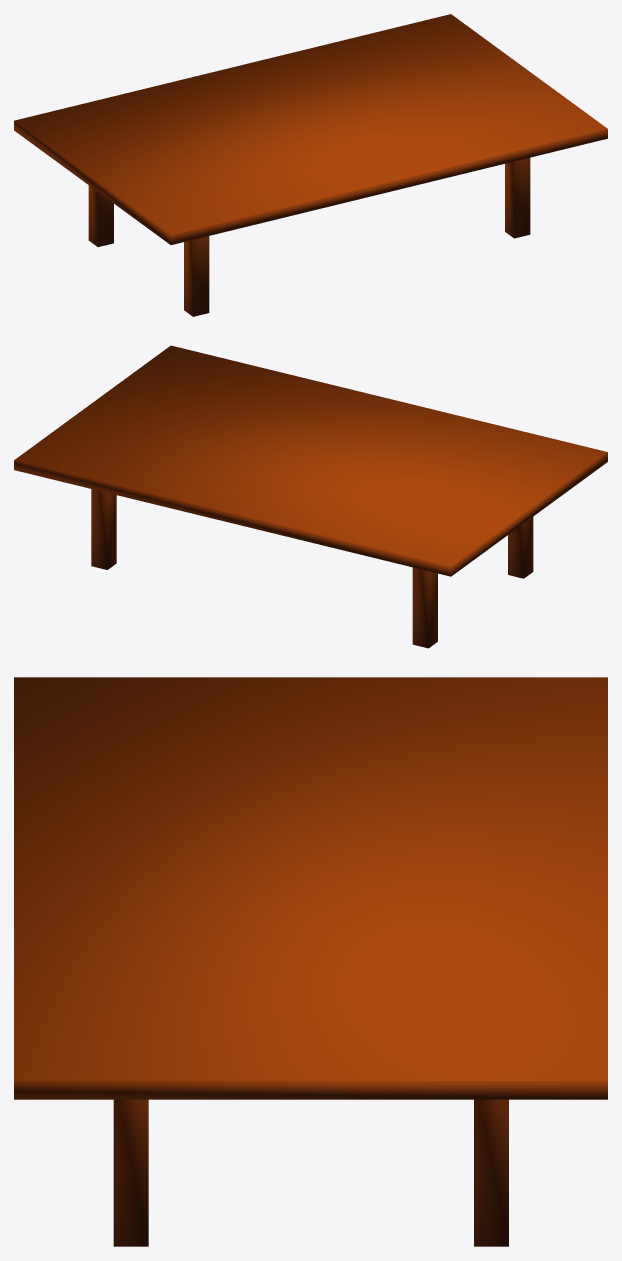
Rendered from MesaSimples.fbx.
3 views of the same model, one above another, from view 1: azimuth 30°, elevation 25°; view 2: azimuth 150°, elevation 25°; view 3: azimuth 270°, elevation 25° (orthographic). The views are drawn at different scales.
Parts seen in each view (by area): view 1: MesaSimples; view 2: MesaSimples; view 3: MesaSimples.
Boxes of the visible parts, left/top/right/bottom form: MesaSimples: left=14, top=14, right=607, bottom=316; MesaSimples: left=14, top=345, right=607, bottom=648; MesaSimples: left=14, top=677, right=607, bottom=1246.
Bounding box in the file's own units: 214 × 52.55 × 133.
